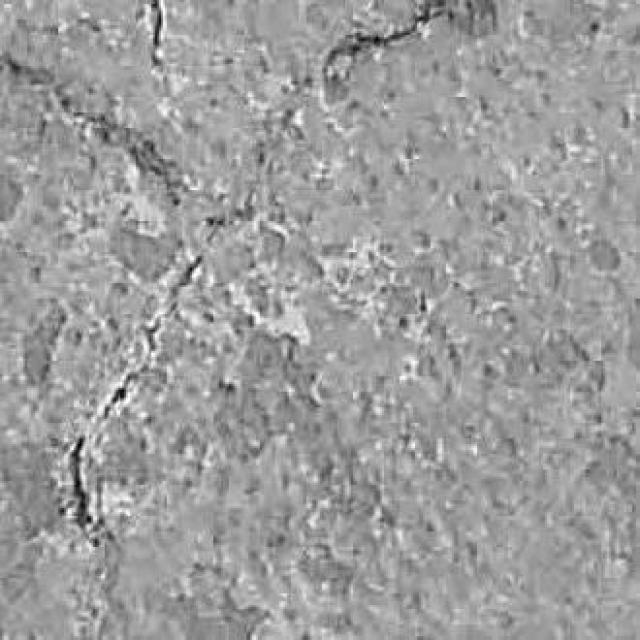crack: (0, 53, 190, 205), (322, 0, 498, 102), (322, 0, 447, 93)
